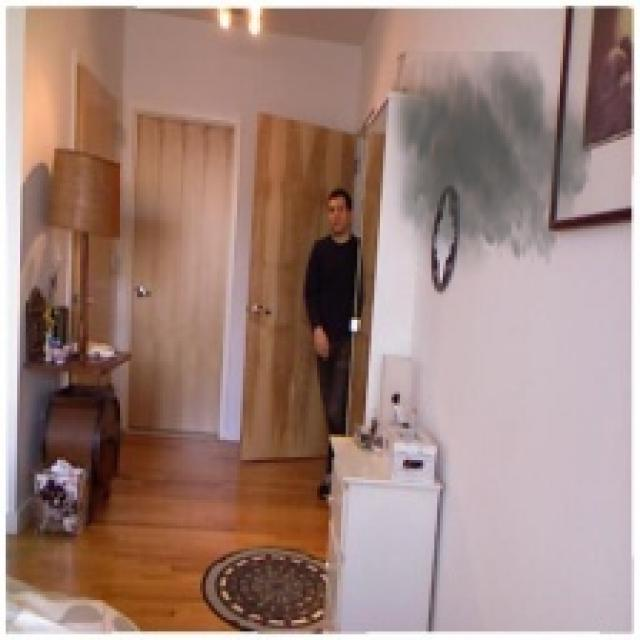Smoke: (383, 52, 591, 288)
